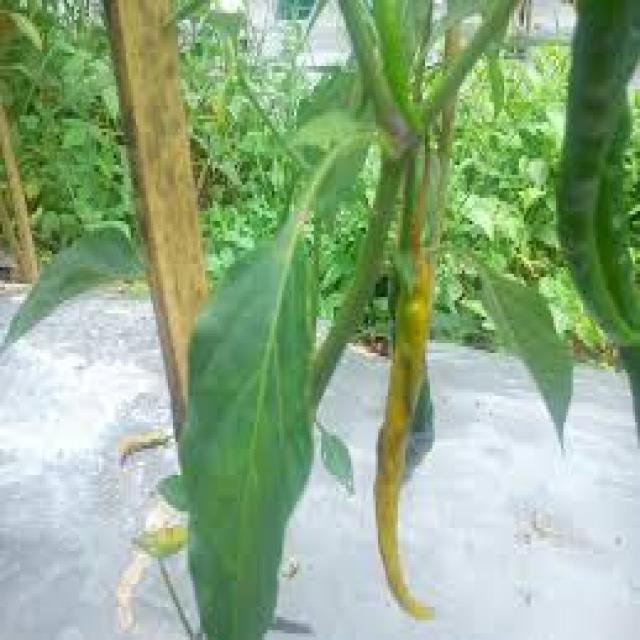sehat: (182, 173, 342, 640)
